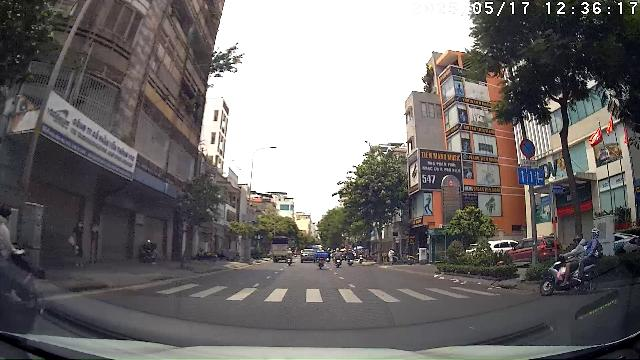131a-cam-do-xe: (520, 139, 536, 157)
